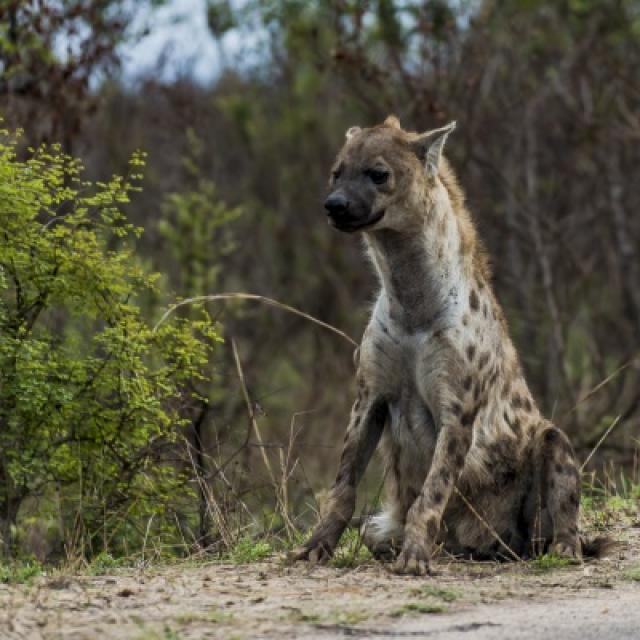hyena: (290, 117, 605, 571)
